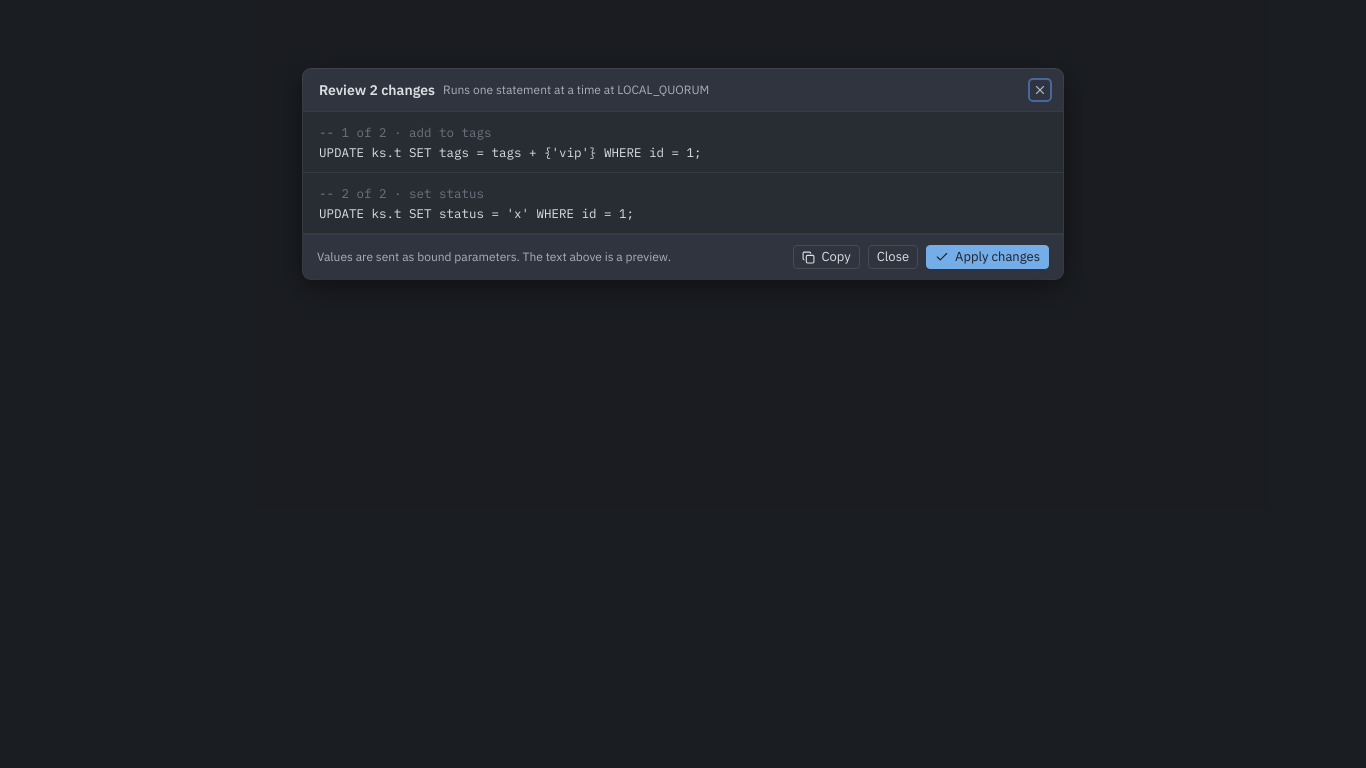
it: ReviewChangesDialog › stays open after a failure and shows the status and error inline
Expected: the text "UPDATE ks.t SET tags = tags + {'vip'} WHERE id = 1;" is shown, x1=319 y1=144 x2=702 y2=160
Click the button "Apply changes": coordinates (988, 257) x1=926 y1=245 x2=1049 y2=269
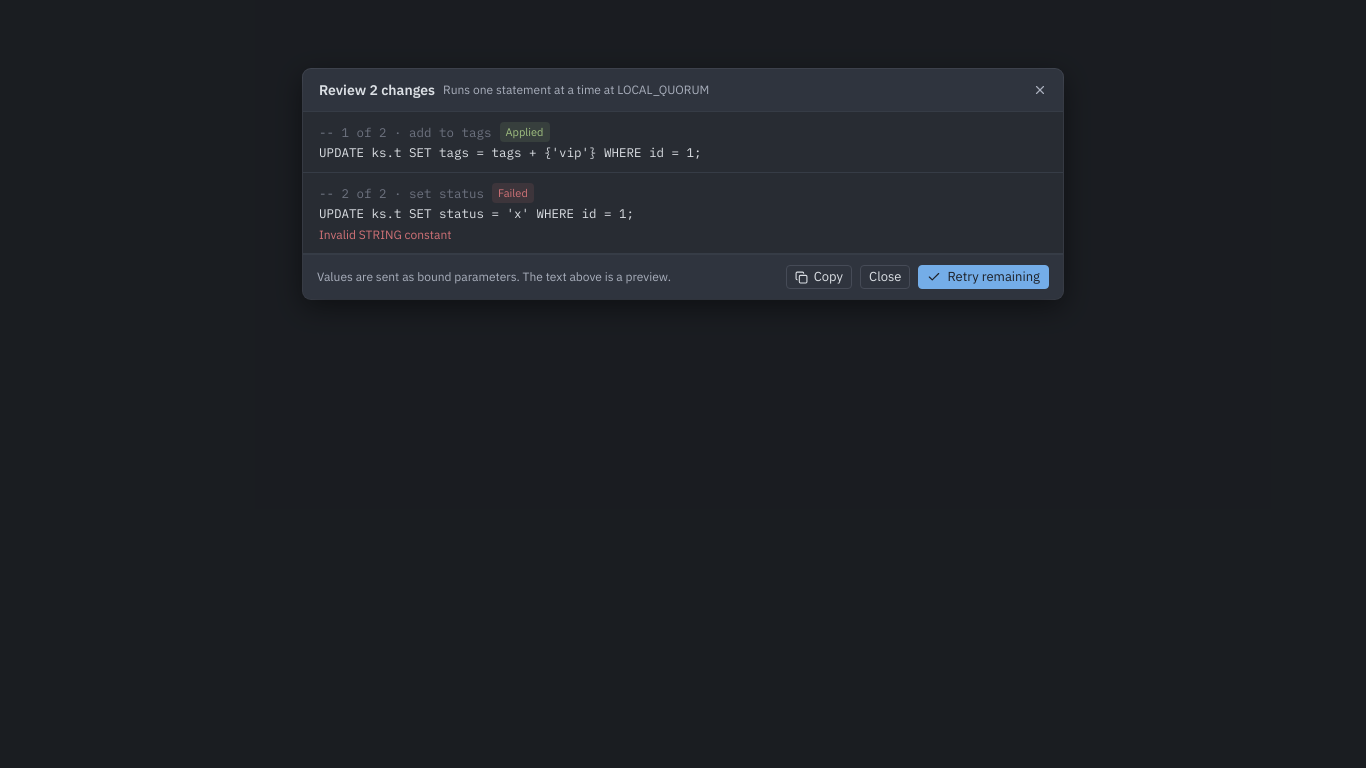
Expected: the text "Invalid STRING constant" is shown, x1=319 y1=227 x2=452 y2=242
Expected: the text "Applied" is shown, x1=500 y1=122 x2=550 y2=142
Expected: the text "Failed" is shown, x1=492 y1=183 x2=534 y2=203
